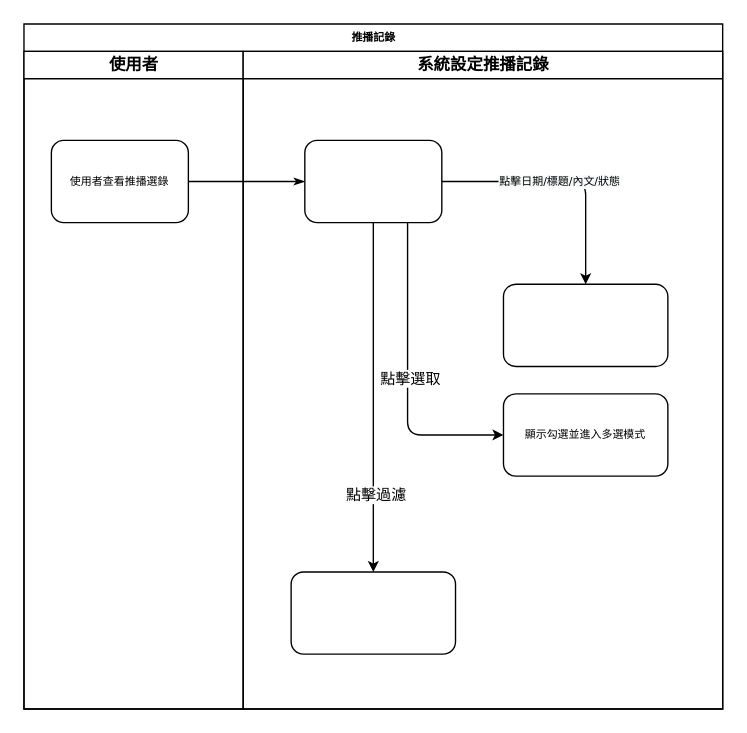
The diagram is 747 pixels wide and 733 high, and some of its shapes have lost their labels. The shapes that lost their labels are listed below. From the top down, each one's box as (x1, y1, x2, y2) in pixels, then its label:
(303, 139, 442, 223): 顯示使用者所有推播訊息
(502, 283, 668, 366): 執行相對應功能
(290, 571, 456, 654): 顯示可過濾項目(日期區間/已讀/未讀)
